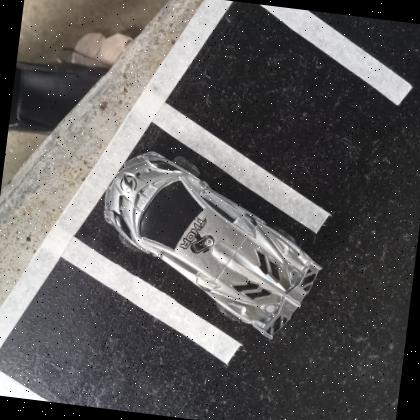Car: (101, 150, 322, 341)
